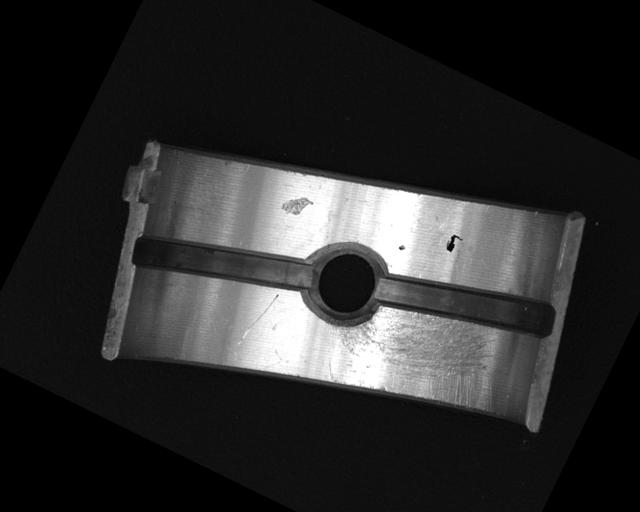blot: (442, 231, 465, 256)
bruise: (277, 188, 315, 224), (397, 243, 406, 252)
gap: (129, 189, 319, 336), (370, 231, 561, 373)
hole: (290, 227, 399, 336)
nick: (237, 286, 280, 352)
scratch: (317, 261, 529, 451)
